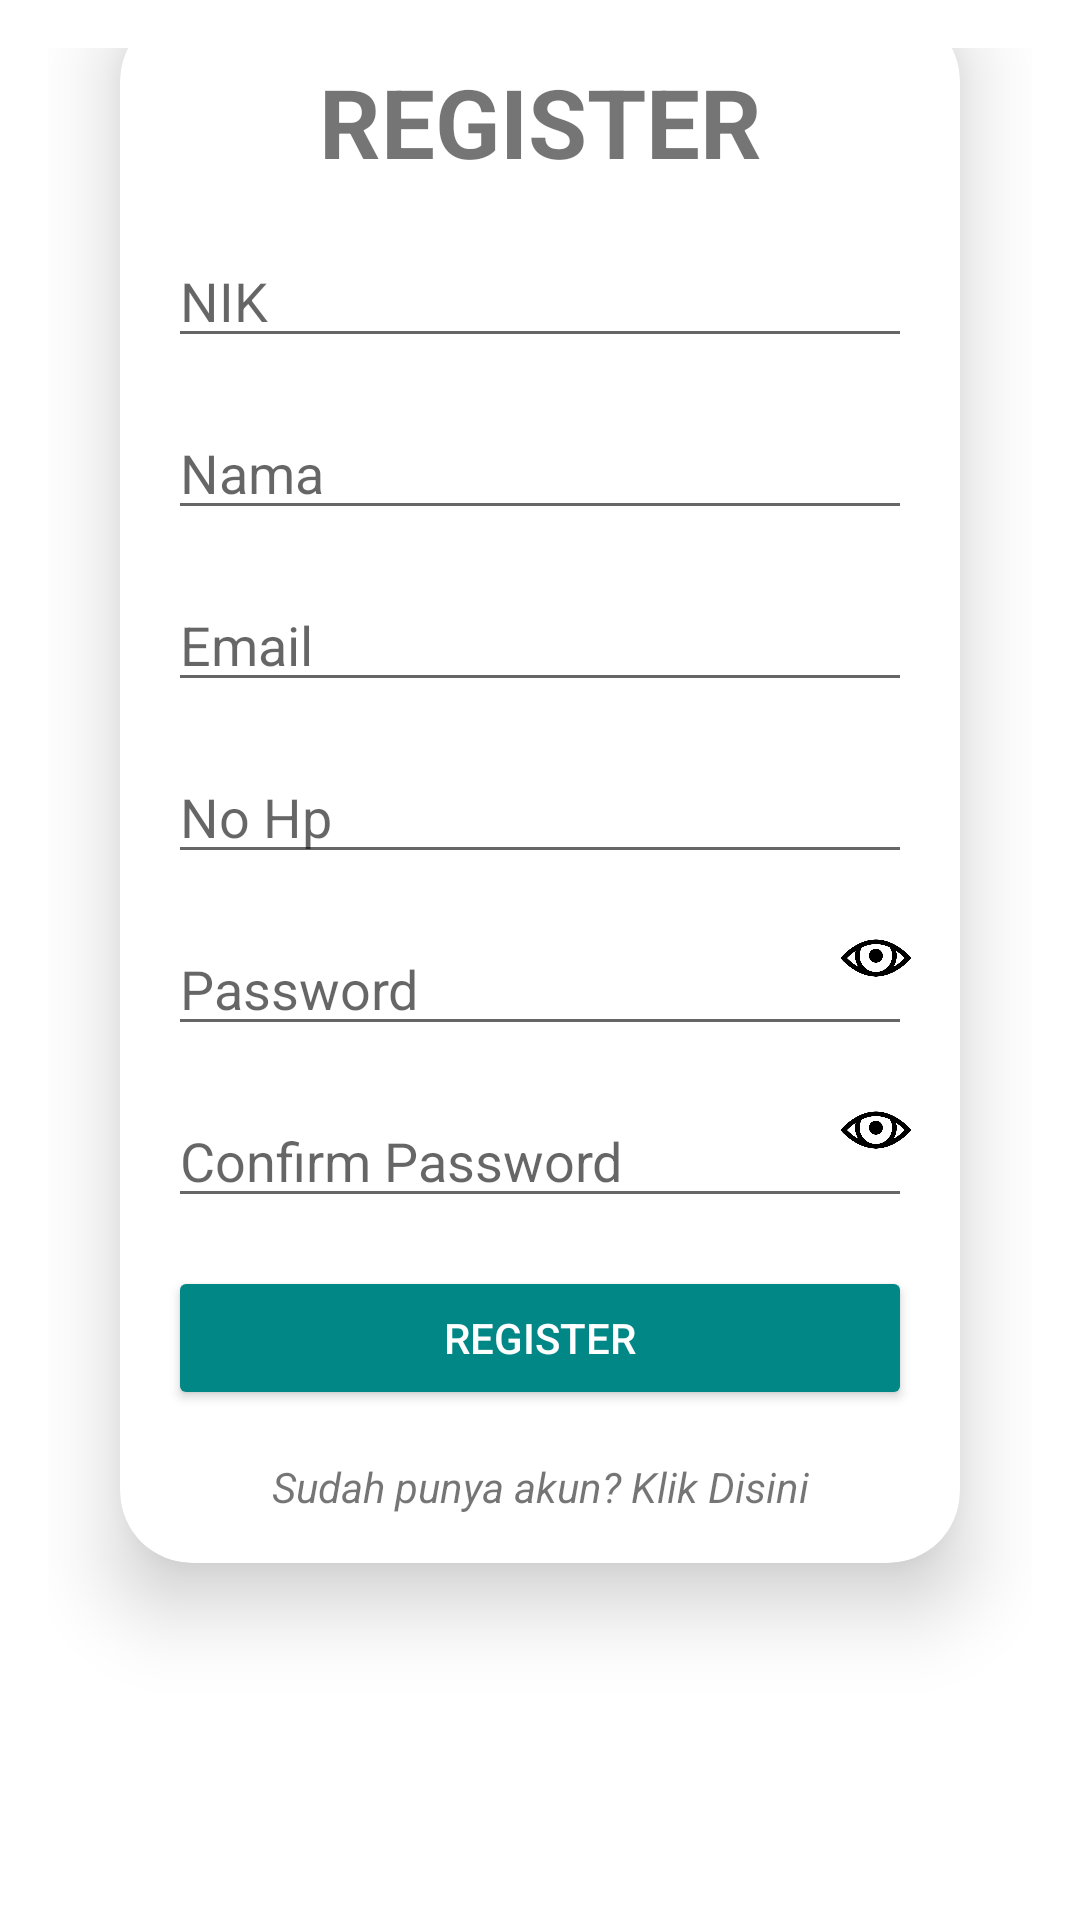

Icon click points for this 1080px×1920px phone screenshot, format point (x, y):
show eye: point (876, 958), point (876, 1130)
